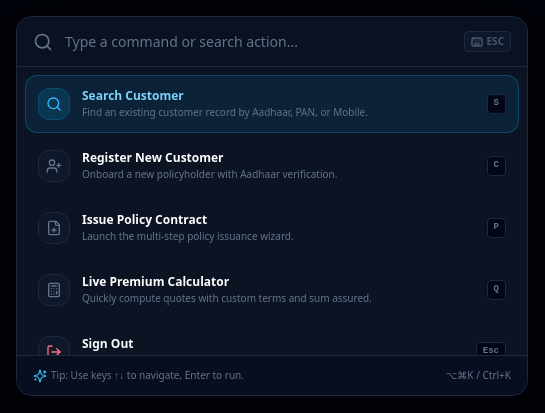
Test: Command Palette Component › filters command items based on search query input
The width and height of the screenshot is (545, 413).
In the field with placeholder "Type a command or search action...": (258, 42) [65,32,452,52], type "wizard"
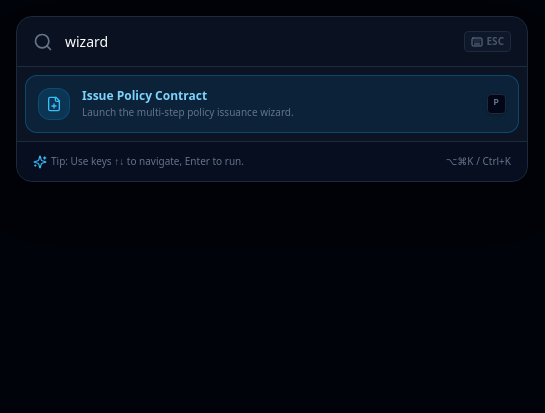
Check: the text "Issue Policy Contract" is shown, box [82,87,207,104]
Check: the text "Search Customer" is gone
